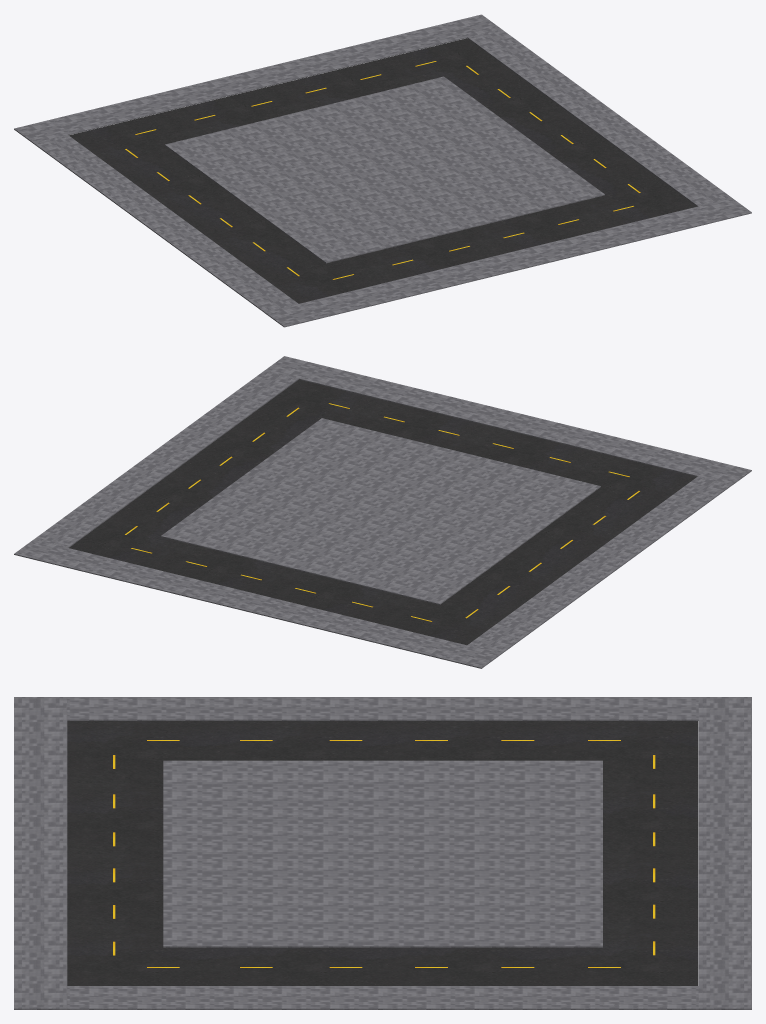
Rendered from acuario.obj.
3 renders of one model, top to bottom at view 1: azimuth 30°, elevation 25°; view 2: azimuth 150°, elevation 25°; view 3: azimuth 270°, elevation 25°, orthographic. The views are drawn at different scales.
Visible parts, largest first — view 1: pPlane1, Box001, Box015, Box014, Box012, Box013; view 2: pPlane1, Box001, Box014, Box015, Box013, Box012; view 3: pPlane1, Box001, Box014, Box015, Box012, Box013.
Boxes of the visible parts, x1,y1,x2,y2 form: pPlane1: (69, 38, 696, 303); Box001: (165, 76, 604, 263); Box015: (264, 198, 751, 327); Box014: (14, 14, 500, 143); Box012: (467, 29, 731, 206); Box013: (33, 134, 298, 312); pPlane1: (69, 379, 696, 645); Box001: (161, 418, 600, 604); Box014: (14, 539, 500, 668); Box015: (265, 356, 751, 484); Box013: (467, 476, 732, 654); Box012: (34, 370, 298, 547); pPlane1: (67, 721, 698, 985); Box001: (163, 760, 602, 947); Box014: (698, 697, 751, 1009); Box015: (14, 697, 67, 1009); Box012: (67, 986, 698, 1009); Box013: (67, 697, 698, 720).
Bounding box in the file's own units: 541 × 1.62 × 541.
4 materials, 4 textured.
